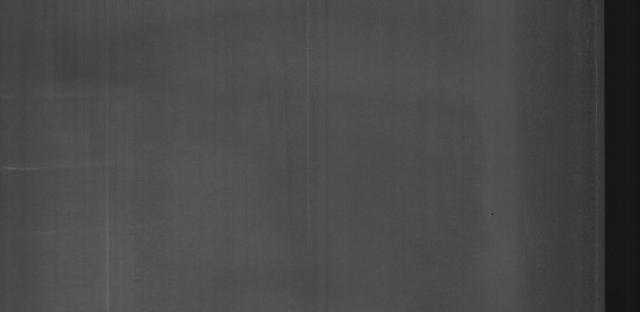inclusion: (488, 209, 496, 220)
